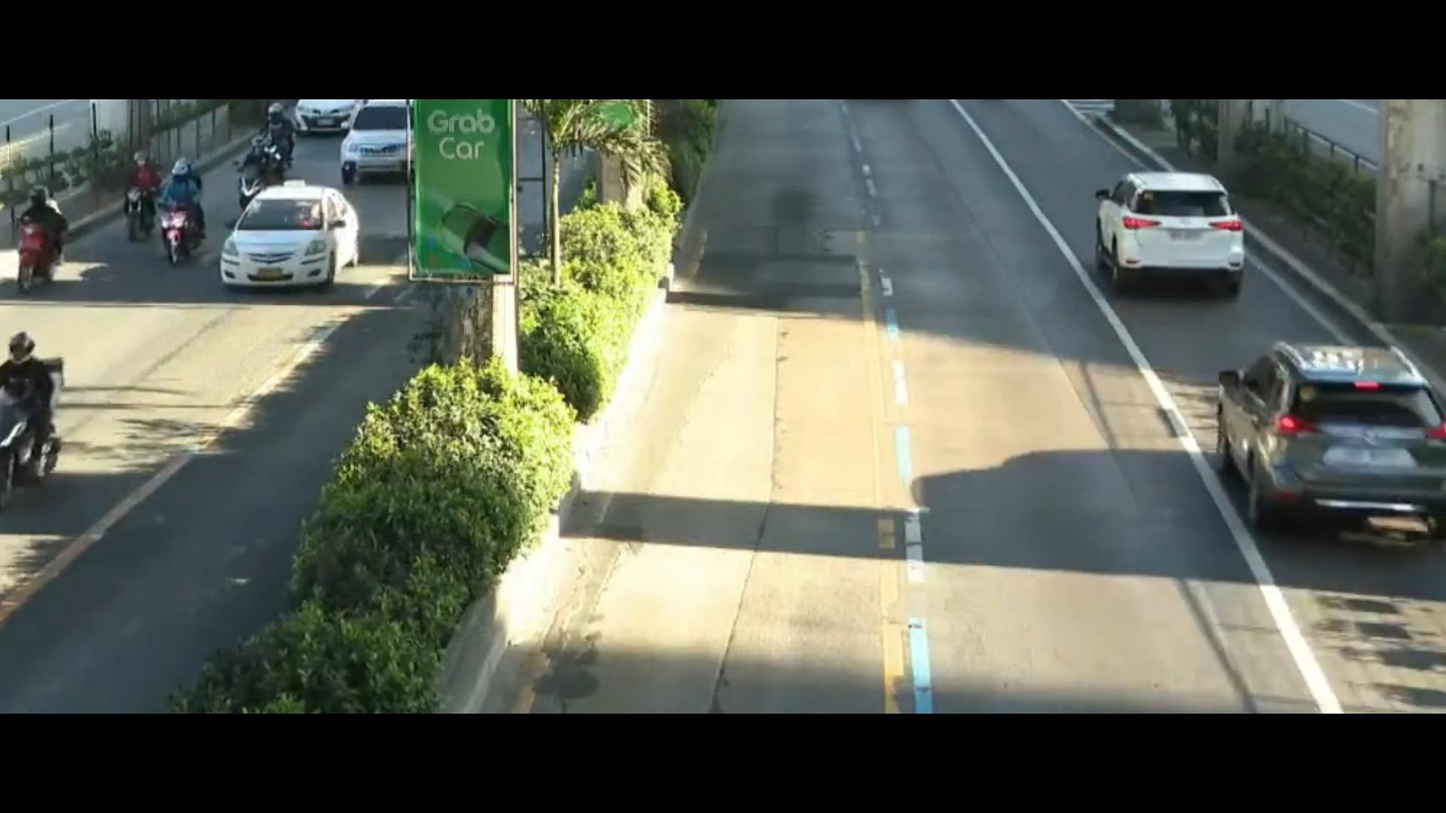Motorcycle: (0, 333, 79, 502), (0, 190, 91, 291), (100, 149, 181, 256), (164, 149, 221, 262), (256, 96, 315, 172), (215, 140, 275, 206)
SUV: (1181, 315, 1446, 568), (1063, 153, 1268, 313), (328, 108, 442, 176)
Sedan: (195, 181, 375, 298)
